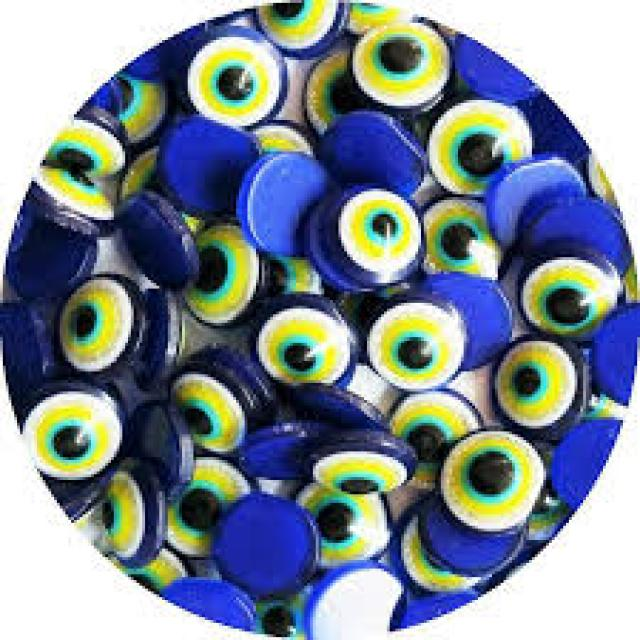Nazar-Boncugu: (440, 426, 550, 537), (323, 183, 428, 288)
